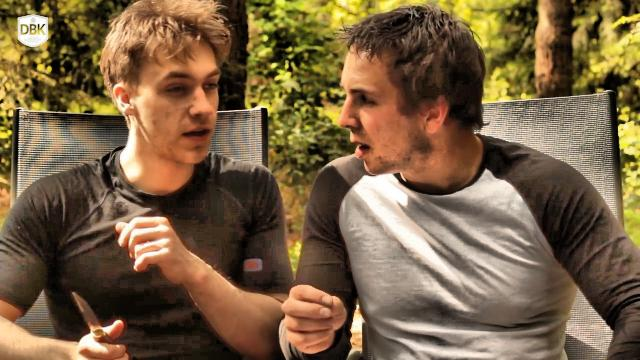knife: (65, 283, 135, 360)
